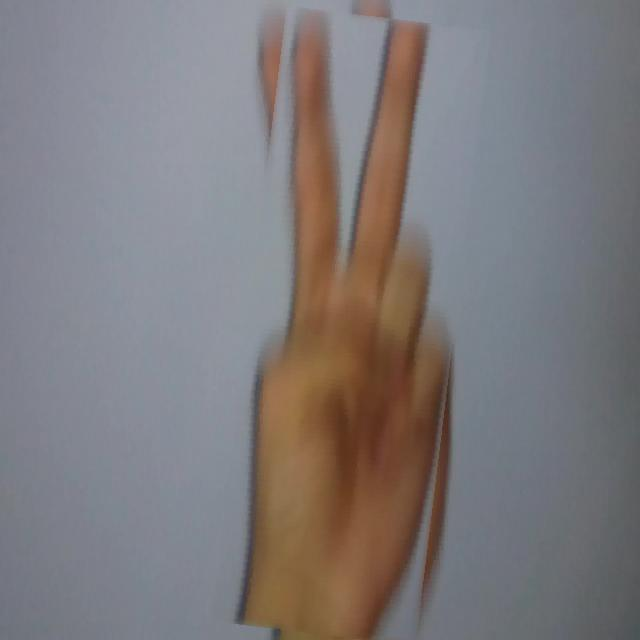V: (229, 11, 472, 640)
